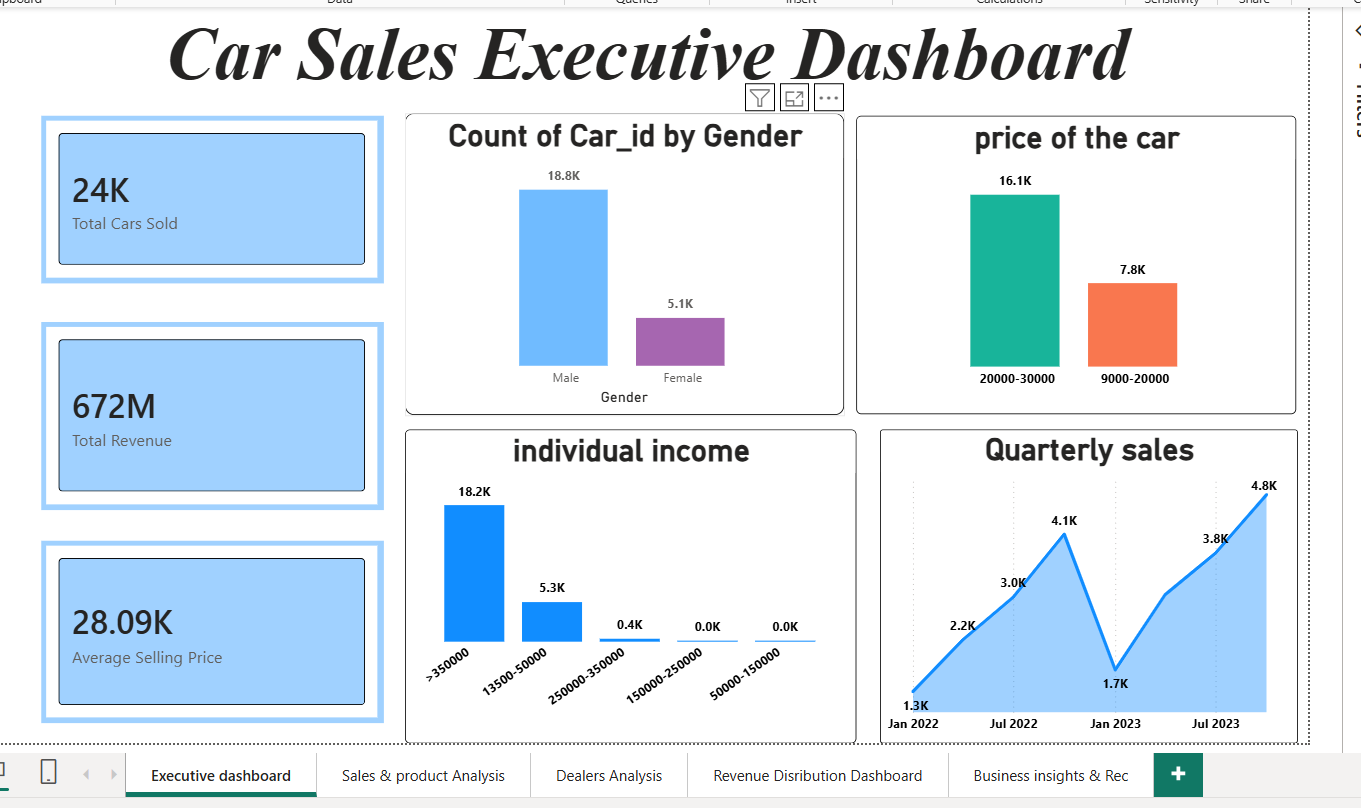

The page's visual inventory and layout, read from the dashboard file:
{"tool":"powerbi","page":{"name":"Executive dashboard","canvas":[1280,720],"ordinal":0},"visuals":[{"type":"textbox","box":[10,0,1245.8,104.1],"z":0},{"type":"textbox","box":[10,290,280,280],"z":1000},{"type":"cardVisual","fields":{"Data":["car_data.Total Cars Sold"]},"box":[39.9,106.9,335,163.9],"z":2000},{"type":"cardVisual","fields":{"Data":["car_data.Average Selling Price"]},"box":[39.9,521.7,335,178.2],"z":3000},{"type":"cardVisual","fields":{"Data":["car_data.Total Revenue"]},"box":[39.9,307.9,335,183.9],"z":4000},{"type":"columnChart","fields":{"Category":["car_data.Gender"],"Y":["CountNonNull(car_data.Car_id)"]},"box":[396.6,104.3,429.5,295],"z":5000},{"type":"columnChart","title":"price of the car","fields":{"Y":["CountNonNull(car_data.Car_id)"],"Category":["car_data.price bins"]},"box":[838.1,106.9,430.5,292.2],"z":6000},{"type":"columnChart","title":"individual income","fields":{"Y":["CountNonNull(car_data.Car_id)"],"Category":["car_data.income bins"]},"box":[396.6,413,441.9,307.4],"z":7000},{"type":"areaChart","title":"Quarterly sales","fields":{"Category":["car_data.Date.Variation.Date Hierarchy.Year","car_data.Date.Variation.Date Hierarchy.Quarter"],"Y":["CountNonNull(car_data.Car_id)"]},"box":[860.4,413,408.9,307.4],"z":8000}]}

Visuals, with their boxes on the page's 1280x720 design canvas (x1, y1, x2, y2). These are canvas units, not pixel positions in the 1361x808 screenshot, which may show the page scaled, cropped or inside an application window:
textbox: x1=10, y1=0, x2=1256, y2=104
textbox: x1=10, y1=290, x2=290, y2=570
cardVisual - car_data.Total Cars Sold: x1=40, y1=107, x2=375, y2=271
cardVisual - car_data.Average Selling Price: x1=40, y1=522, x2=375, y2=700
cardVisual - car_data.Total Revenue: x1=40, y1=308, x2=375, y2=492
columnChart - car_data.Gender x CountNonNull(car_data.Car_id): x1=397, y1=104, x2=826, y2=399
"price of the car" columnChart: x1=838, y1=107, x2=1269, y2=399
"individual income" columnChart: x1=397, y1=413, x2=838, y2=720
"Quarterly sales" areaChart: x1=860, y1=413, x2=1269, y2=720
